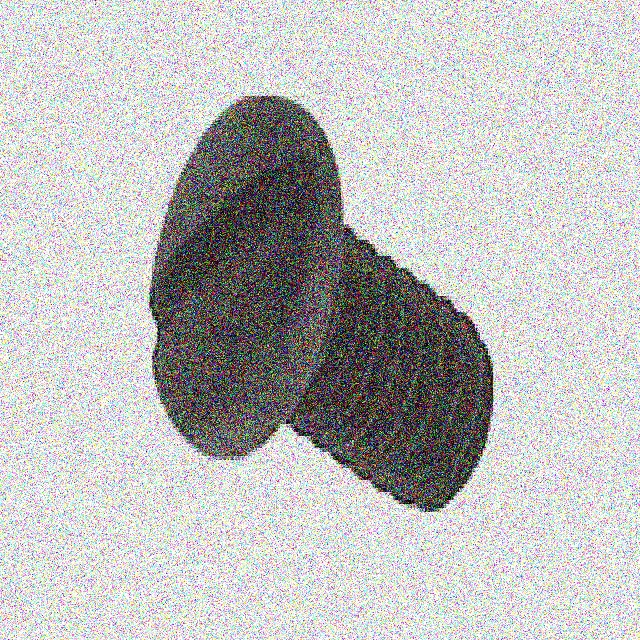duz: (148, 93, 344, 459)
